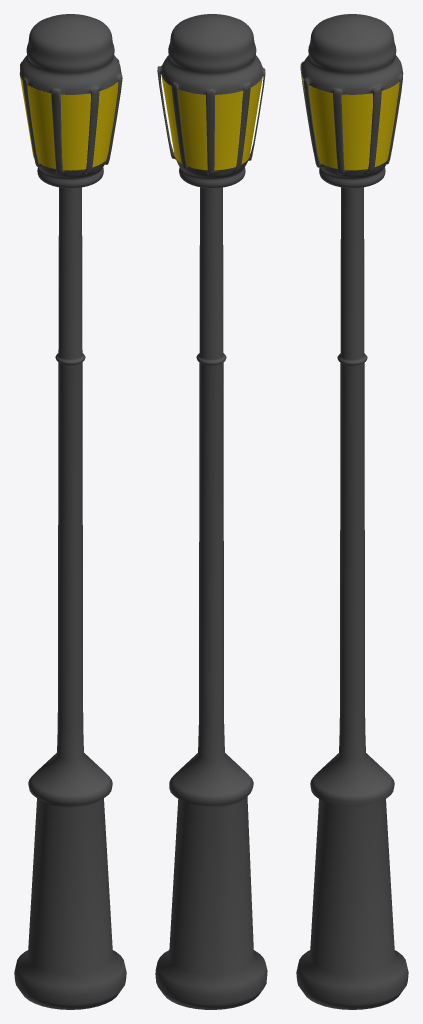
File: Streetlamp.fbx
3 renders of one model, left to right at view 1: azimuth 90°, elevation 25°; view 2: azimuth 150°, elevation 25°; view 3: azimuth 270°, elevation 25°, orthographic.
Parts seen in each view (by area): view 1: StreetLamp, Cylinder, Cylinder.001; view 2: StreetLamp, Cylinder, Cylinder.001; view 3: StreetLamp, Cylinder, Cylinder.001.
Part boxes in pixels (x1,y1,x2,y2): StreetLamp: (14, 187, 126, 1009); Cylinder: (20, 14, 122, 188); Cylinder.001: (19, 72, 121, 170); StreetLamp: (155, 187, 267, 1009); Cylinder: (157, 14, 265, 188); Cylinder.001: (161, 75, 262, 170); StreetLamp: (296, 187, 408, 1009); Cylinder: (300, 14, 402, 188); Cylinder.001: (301, 71, 403, 170).
Size of the model in its own units: 57.27 by 545 by 57.27.
